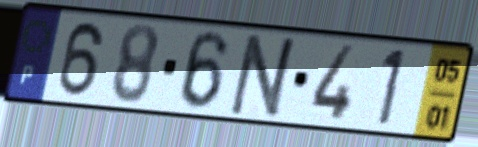1: (374, 46, 410, 129)
4: (306, 42, 358, 125)
6: (178, 28, 234, 114), (57, 19, 108, 100)
8: (109, 22, 162, 106)
N: (225, 32, 304, 122)
